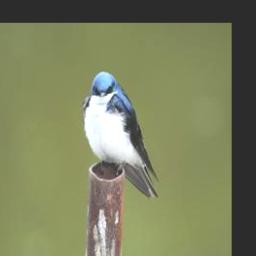Swallow: (82, 69, 161, 199)
